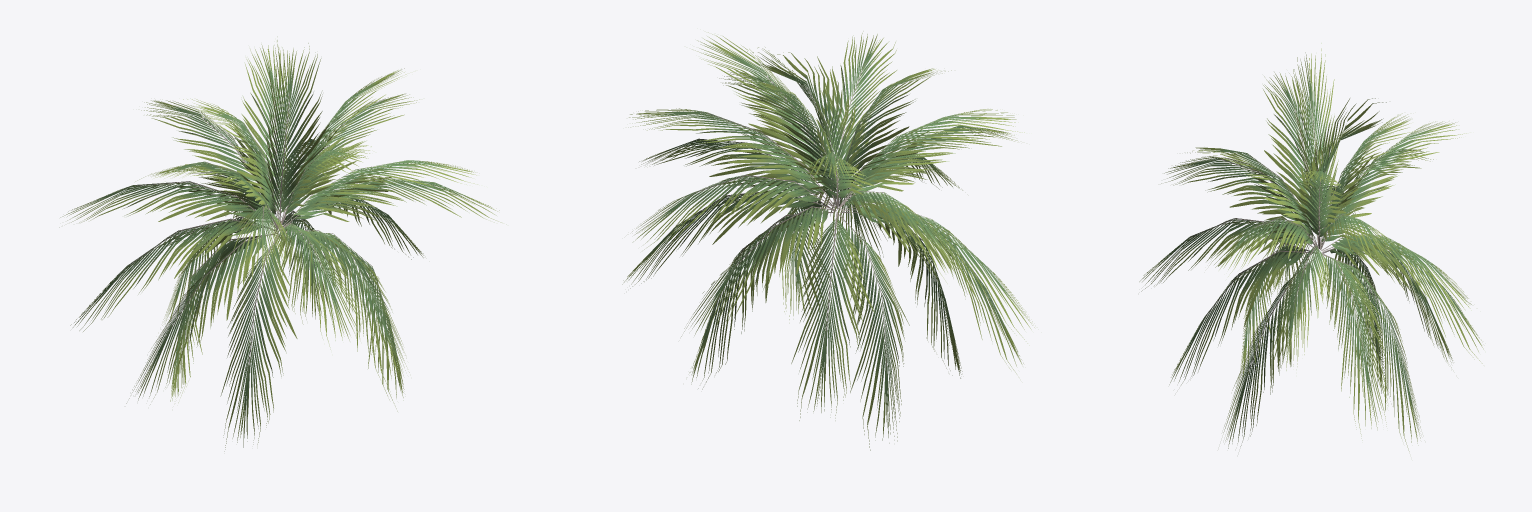
The model's file is m_palm_p2_3_leaf_0.glb.
3 renders of one model, left to right at view 1: azimuth 30°, elevation 25°; view 2: azimuth 150°, elevation 25°; view 3: azimuth 270°, elevation 25°, orthographic. The views are drawn at different scales.
Visible parts, largest first — view 1: M_Palm_P2_3_Leaf_0; view 2: M_Palm_P2_3_Leaf_0; view 3: M_Palm_P2_3_Leaf_0.
Part boxes in pixels (x1,y1,x2,y2): M_Palm_P2_3_Leaf_0: (59, 36, 506, 451); M_Palm_P2_3_Leaf_0: (622, 31, 1034, 450); M_Palm_P2_3_Leaf_0: (1139, 43, 1483, 451).
Size of the model in its own units: 4.16 by 3.24 by 3.07.
1 material, 1 textured.
